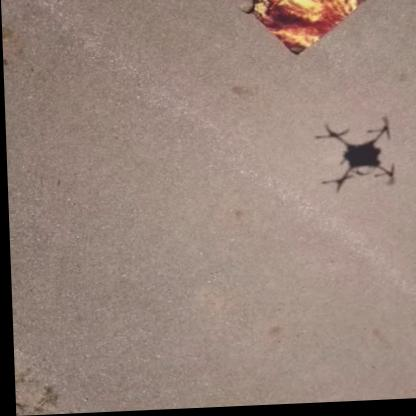fire-poster: (239, 0, 369, 60)
